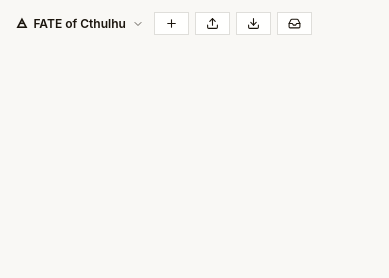
it: WorldShelf › shows every world with its identity in the shelf
The width and height of the screenshot is (389, 278).
Step 1. Click the button with aria-label "World shelf" → (80, 24), box 12,14 -> 148,33
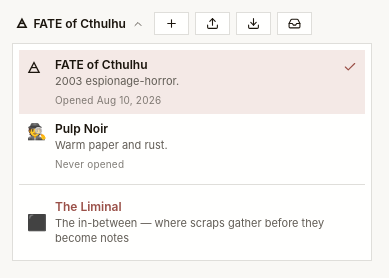
Now the text "Pulp Noir" is shown, box 55,121 -> 108,136
Now the text "The Liminal" is shown, box 55,199 -> 122,214
Now the text "2003 espionage-horror." is shown, box 55,74 -> 179,88
